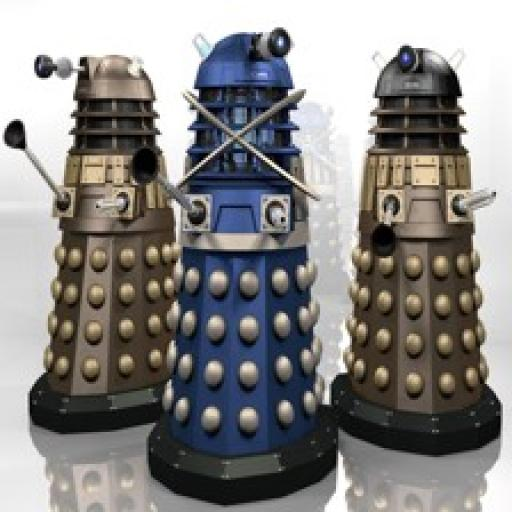dalek: (128, 24, 345, 512), (327, 32, 512, 457), (4, 47, 176, 435)
